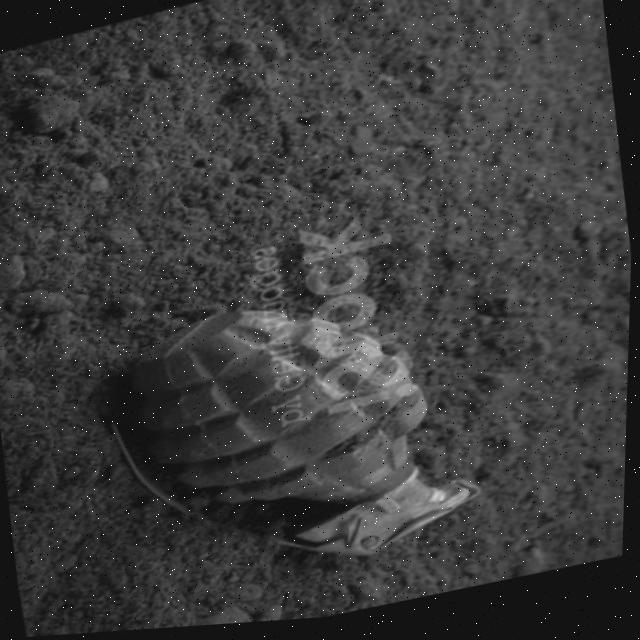grenade: (77, 256, 495, 623)
